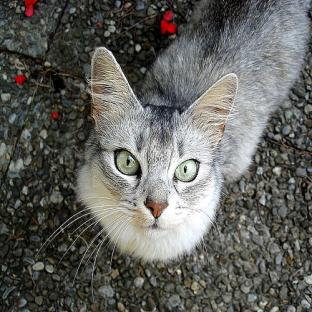Animal: (77, 0, 310, 261)
